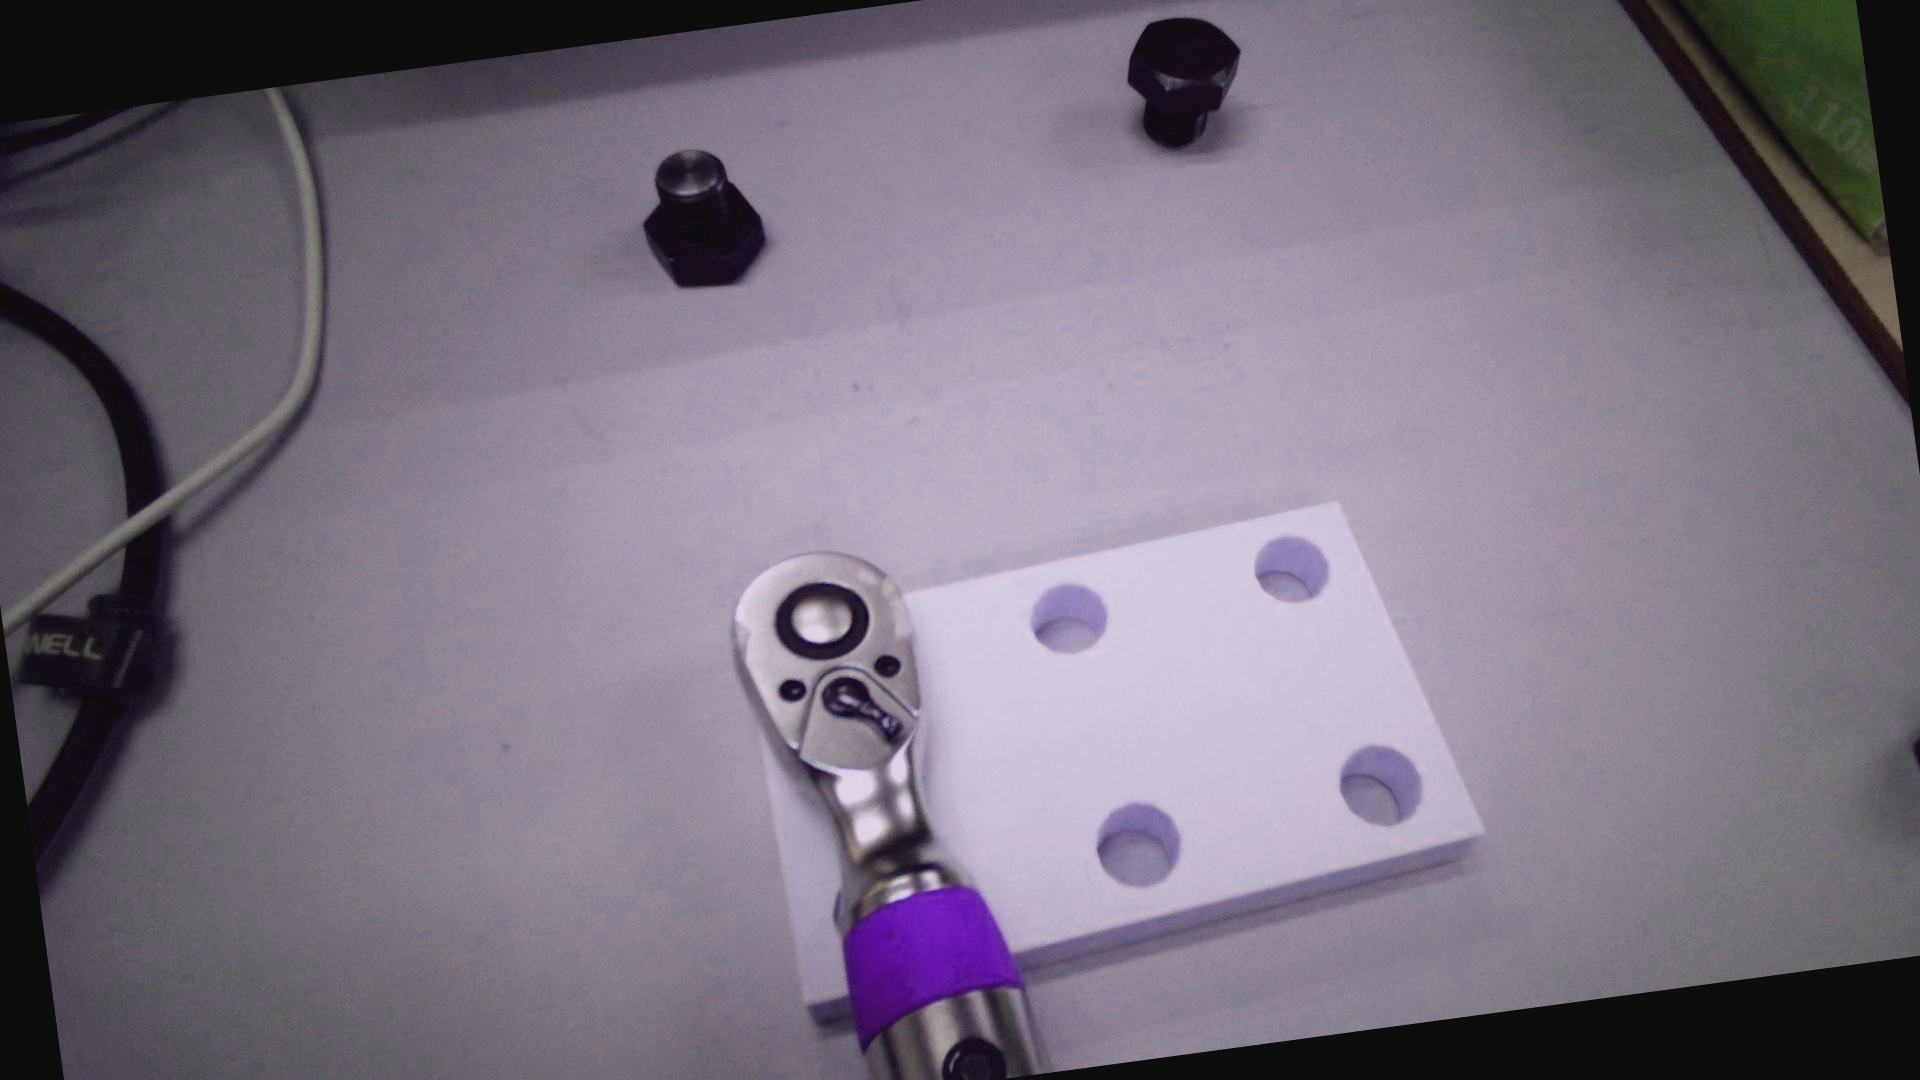hole: (1092, 798, 1185, 891), (1335, 740, 1425, 833), (1025, 576, 1114, 659), (1247, 531, 1333, 609)
obj: (736, 487, 1505, 1033)
wrench: (767, 575, 876, 666)
